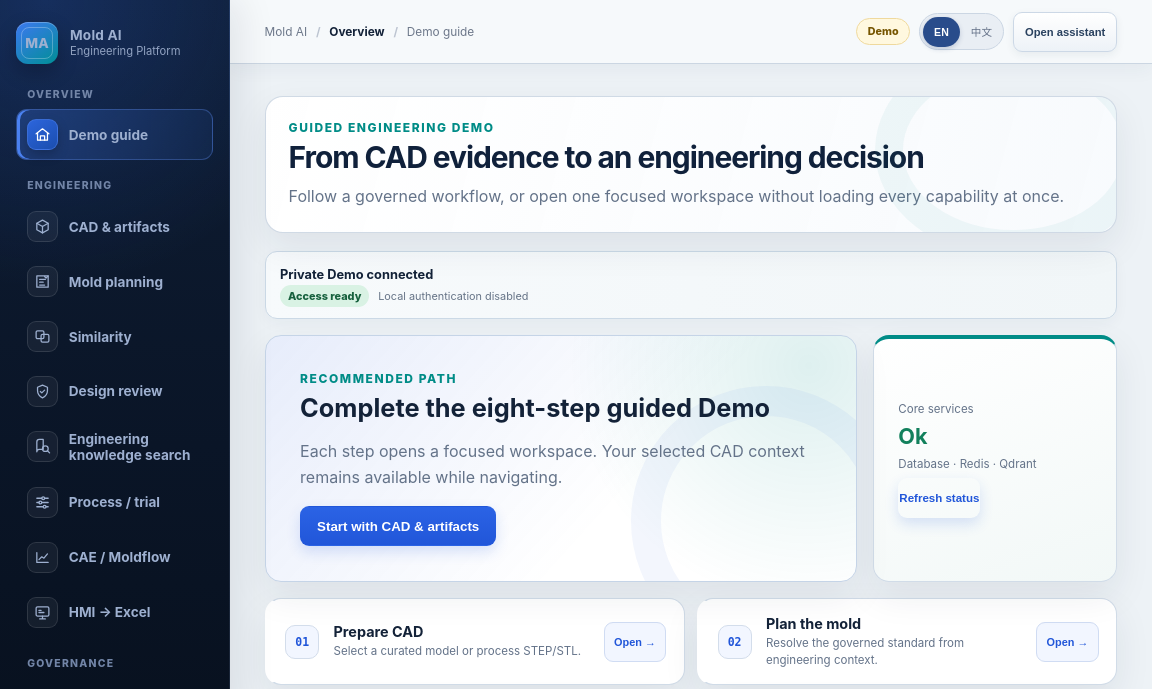
Scenario: App › switches the full shell to Traditional Chinese and persists the preference
Click the button "中文" at (981, 32), box [963,16,1000,46]
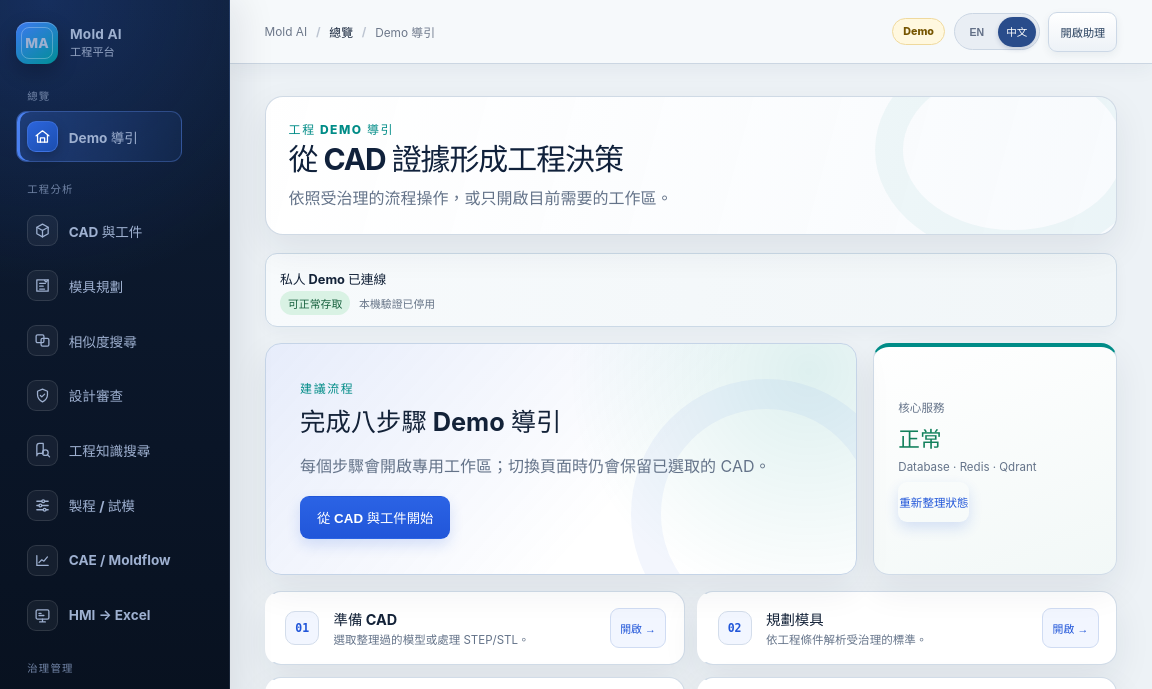
Result: the text "完成八步驟 Demo 導引" is shown at [300,406,561,437]
Click the button "EN" at (977, 32), box [958,16,996,46]
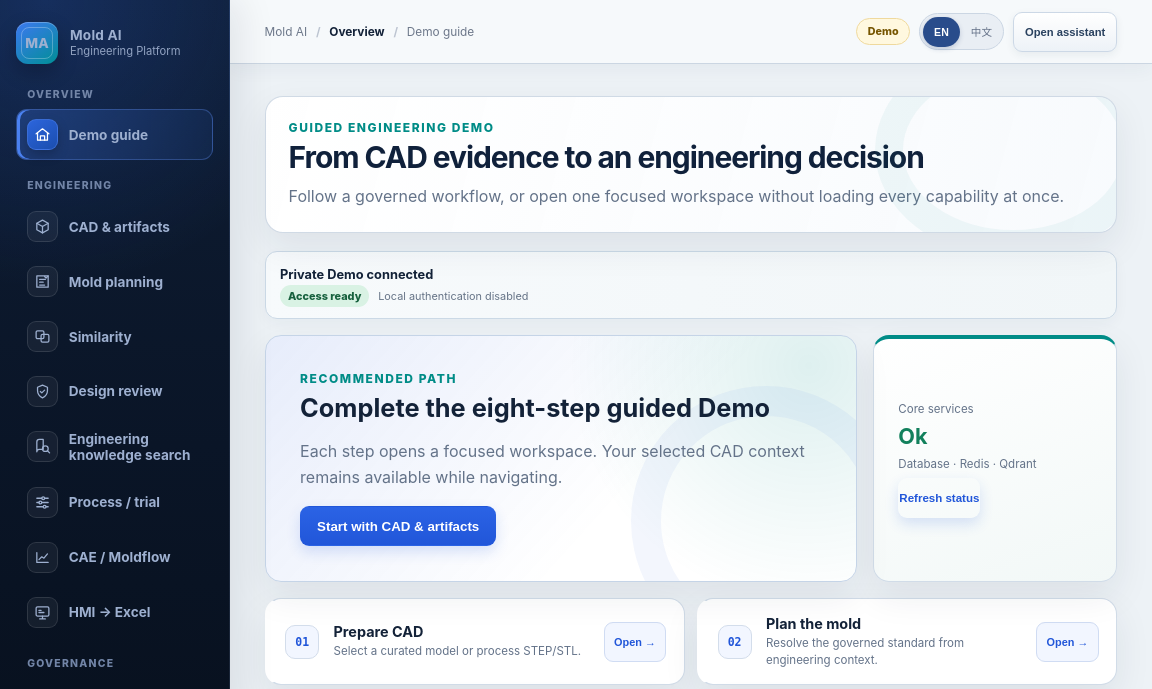
Result: the text "Complete the eight-step guided Demo" is shown at [300,392,822,423]
